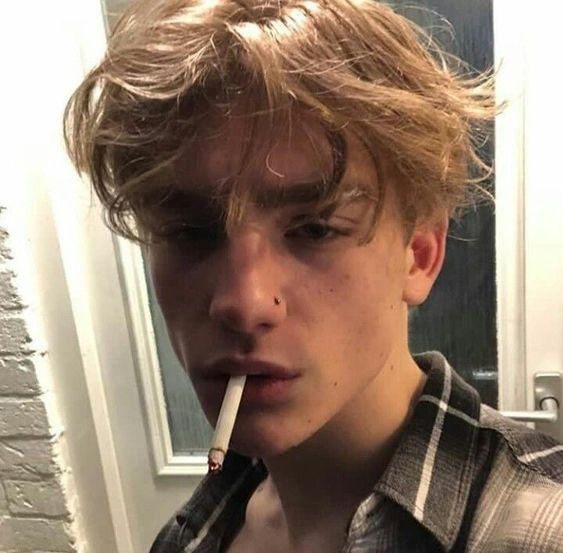cigarette: (206, 374, 247, 472)
